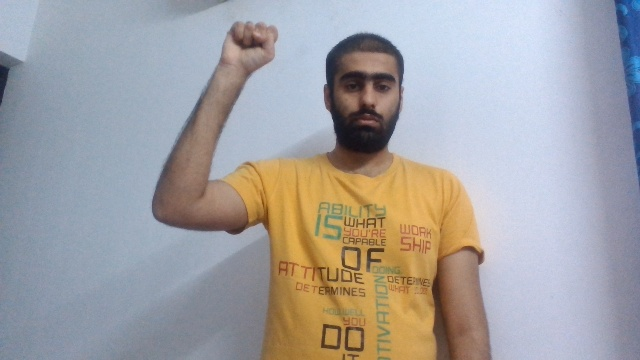rock: (213, 19, 279, 69)
